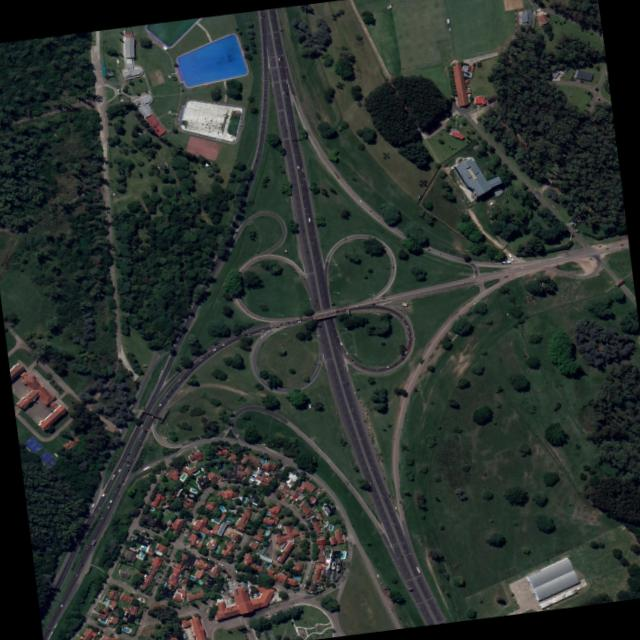large-vehicle: (507, 253, 513, 261), (415, 565, 420, 573), (90, 539, 95, 545), (500, 261, 509, 263), (307, 403, 310, 408)
small-vehicle: (90, 502, 94, 507), (264, 552, 269, 556), (375, 574, 379, 578), (284, 79, 288, 83), (168, 388, 172, 392), (307, 217, 310, 222), (246, 579, 249, 584), (391, 600, 395, 603), (476, 300, 479, 304), (335, 334, 338, 338), (293, 143, 296, 147), (426, 248, 430, 251), (334, 309, 338, 312), (368, 480, 371, 484), (619, 243, 623, 246), (137, 380, 140, 384), (188, 519, 191, 523), (186, 544, 190, 547), (182, 547, 186, 550), (187, 549, 191, 552), (206, 557, 210, 560), (220, 563, 224, 566), (142, 428, 145, 432), (145, 427, 148, 431), (47, 627, 50, 631), (92, 605, 95, 609), (75, 573, 78, 577), (84, 547, 87, 551), (101, 492, 104, 496), (131, 457, 134, 461), (110, 476, 113, 480), (111, 473, 114, 477), (117, 468, 120, 472), (126, 451, 129, 455), (141, 529, 145, 532), (126, 468, 129, 472), (254, 540, 258, 543), (261, 614, 264, 618), (221, 594, 224, 598), (212, 348, 216, 351), (242, 332, 246, 335), (296, 164, 298, 169), (350, 358, 353, 361), (393, 362, 396, 365), (401, 357, 404, 360), (405, 325, 408, 328), (473, 302, 476, 305), (457, 314, 460, 317), (351, 407, 354, 410), (387, 591, 390, 594), (345, 381, 348, 384), (352, 361, 355, 364), (358, 199, 361, 202), (339, 574, 342, 577), (336, 175, 339, 178), (368, 209, 371, 212), (332, 327, 335, 330), (390, 598, 393, 601), (368, 426, 371, 429), (382, 476, 385, 479), (387, 494, 390, 497), (150, 414, 153, 417), (158, 403, 161, 406), (165, 394, 168, 397), (176, 384, 179, 387), (177, 378, 180, 381), (183, 376, 186, 379), (187, 315, 190, 318), (138, 443, 141, 446), (189, 521, 192, 524), (184, 530, 187, 533), (217, 562, 220, 565), (97, 506, 100, 509), (51, 614, 54, 617), (80, 563, 83, 566), (100, 516, 103, 519), (104, 493, 107, 496), (106, 505, 109, 508), (108, 499, 111, 502), (116, 484, 119, 487), (121, 479, 124, 482), (385, 585, 388, 588), (387, 587, 390, 590), (309, 562, 312, 565), (273, 582, 276, 585), (302, 583, 305, 586), (298, 584, 301, 587), (268, 57, 271, 60), (260, 542, 263, 545), (207, 605, 210, 608), (254, 158, 257, 161), (344, 352, 348, 354), (345, 309, 349, 311), (371, 303, 375, 305), (381, 297, 385, 299), (284, 128, 286, 132), (302, 184, 304, 188), (301, 193, 303, 197), (305, 249, 307, 253), (314, 298, 316, 302), (354, 419, 356, 423), (400, 554, 402, 558), (597, 245, 601, 247), (190, 546, 194, 548), (214, 557, 218, 559), (213, 561, 217, 563), (224, 573, 226, 577), (157, 166, 159, 170), (225, 591, 229, 593), (226, 593, 230, 595), (383, 588, 387, 590), (284, 579, 288, 581), (254, 574, 258, 576), (283, 587, 287, 589), (205, 353, 209, 355), (260, 329, 264, 331), (285, 323, 289, 325), (142, 130, 144, 133), (360, 366, 363, 368), (375, 368, 378, 370), (385, 365, 388, 367), (407, 349, 409, 352), (407, 338, 409, 341), (410, 335, 412, 338), (407, 331, 409, 334), (401, 318, 404, 320), (342, 308, 345, 310), (353, 390, 355, 393), (398, 616, 400, 619), (279, 121, 281, 124), (304, 162, 306, 165), (301, 168, 303, 171), (302, 177, 304, 180), (305, 188, 307, 191), (303, 207, 305, 210), (313, 248, 315, 251), (313, 235, 315, 238), (318, 260, 320, 263), (437, 252, 440, 254), (285, 92, 287, 95), (379, 582, 382, 584), (394, 506, 396, 509), (367, 432, 369, 435), (370, 435, 372, 438), (374, 453, 376, 456), (379, 452, 381, 455), (380, 459, 382, 462), (391, 500, 393, 503), (398, 500, 400, 503), (472, 275, 475, 277), (520, 266, 523, 268), (594, 244, 597, 246), (605, 247, 608, 249), (619, 246, 622, 248), (282, 91, 284, 94), (138, 132, 141, 134), (225, 587, 228, 589), (199, 358, 202, 360), (110, 190, 112, 193), (105, 113, 107, 116), (104, 109, 106, 112), (234, 570, 237, 572), (140, 423, 142, 426), (182, 543, 185, 545), (60, 603, 62, 606), (143, 608, 145, 611), (226, 578, 229, 580), (284, 66, 286, 69), (329, 571, 331, 574), (334, 575, 336, 578), (305, 575, 307, 578), (274, 598, 276, 601), (292, 591, 295, 593), (259, 16, 261, 19), (262, 14, 264, 17), (279, 57, 281, 60), (277, 57, 279, 60), (249, 484, 252, 486), (281, 466, 283, 469), (364, 412, 367, 414), (228, 595, 231, 597), (230, 601, 233, 603), (206, 609, 208, 612), (204, 615, 206, 618), (221, 343, 224, 345), (263, 32, 265, 35), (247, 333, 250, 335), (275, 326, 278, 328), (286, 321, 289, 323), (297, 320, 300, 322), (369, 297, 371, 299), (468, 306, 470, 308), (474, 285, 476, 287), (313, 316, 315, 318), (363, 420, 365, 422), (474, 269, 475, 273), (230, 578, 232, 580), (302, 587, 304, 589), (259, 608, 261, 610), (265, 614, 267, 616), (355, 306, 358, 307), (461, 282, 464, 283), (392, 265, 393, 268), (324, 314, 327, 315), (294, 560, 297, 561), (230, 600, 233, 601), (270, 325, 273, 326), (279, 323, 282, 324), (302, 228, 303, 230), (147, 623, 149, 624), (307, 573, 308, 575)
storage-tank: (592, 86, 597, 91)
